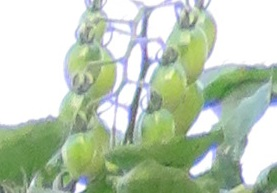green: (166, 23, 207, 82), (64, 39, 102, 93), (151, 60, 188, 112), (61, 132, 96, 182), (139, 110, 174, 144), (83, 9, 106, 37), (103, 48, 116, 97)
